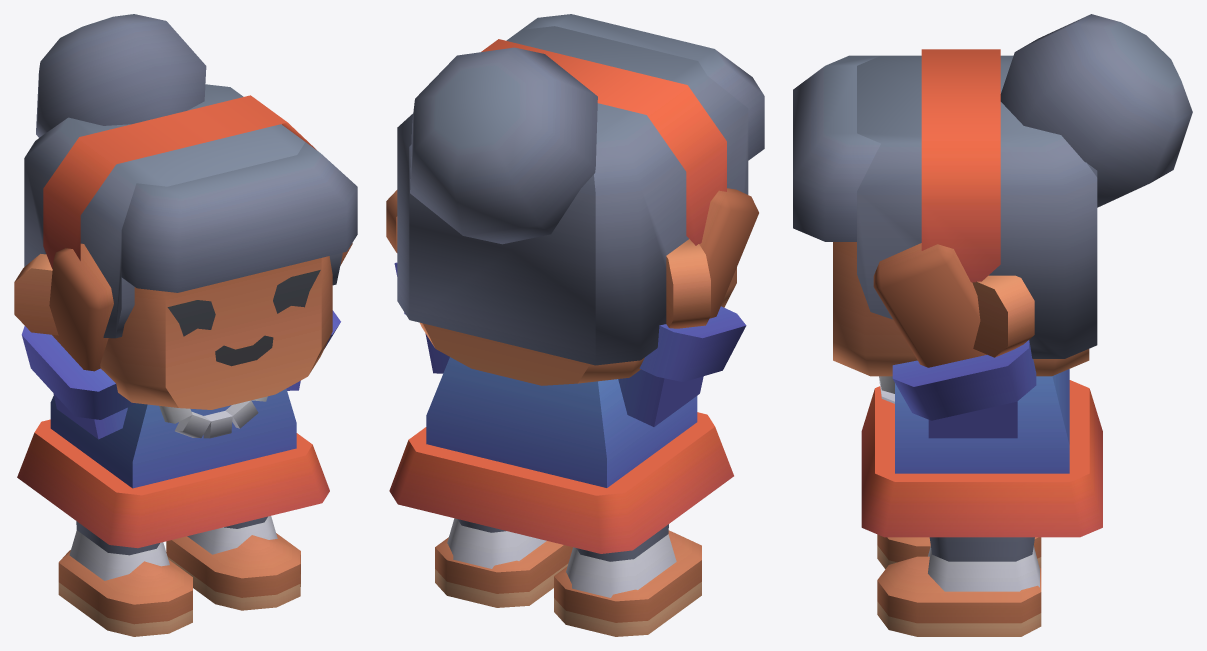
The model's file is people-female-c-idle.glb.
The picture shows the model from 3 angles, left to right: view 1: azimuth 30°, elevation 25°; view 2: azimuth 150°, elevation 25°; view 3: azimuth 270°, elevation 25°; orthographic projection. The views are drawn at different scales.
Parts seen in each view (by area): view 1: character-female-c-idle; view 2: character-female-c-idle; view 3: character-female-c-idle.
Part boxes in pixels (x1,y1,x2,y2): character-female-c-idle: [14, 14, 357, 636]; character-female-c-idle: [386, 14, 764, 636]; character-female-c-idle: [793, 14, 1192, 636].
Size of the model in its own units: 0.4535 by 0.7755 by 0.4995.
1 material, 1 textured.
